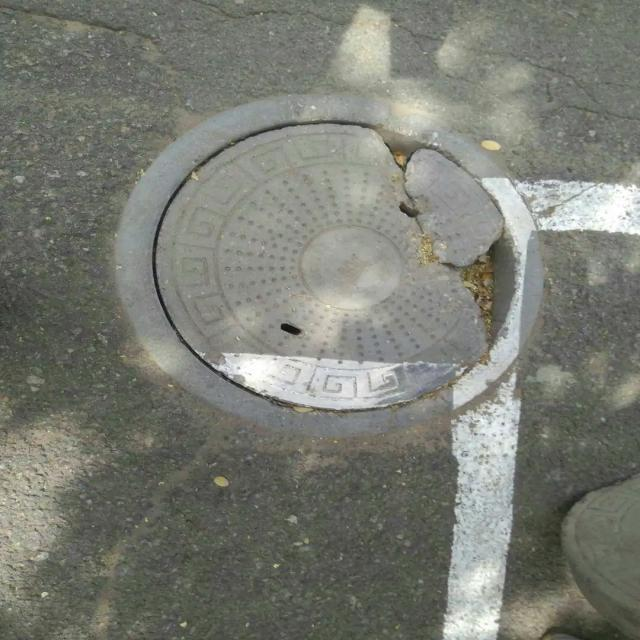manhole: (112, 94, 544, 441)
